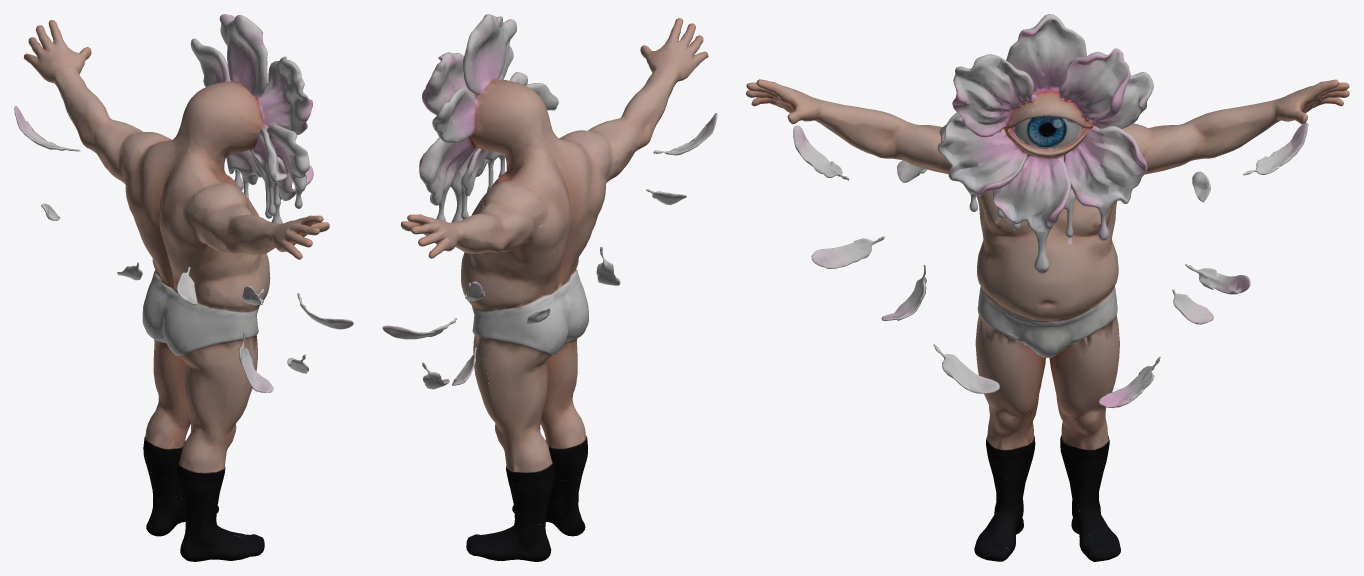
Rendered from flyer.glb.
3 renders of one model, left to right at view 1: azimuth 30°, elevation 25°; view 2: azimuth 150°, elevation 25°; view 3: azimuth 270°, elevation 25°, orthographic. The views are drawn at different scales.
Visible parts, largest first — view 1: tripo_node_4bf3fbf1-d5af-4c68-b5ee-96ed81098029; view 2: tripo_node_4bf3fbf1-d5af-4c68-b5ee-96ed81098029; view 3: tripo_node_4bf3fbf1-d5af-4c68-b5ee-96ed81098029.
Part boxes in pixels (left/top/right/bottom): tripo_node_4bf3fbf1-d5af-4c68-b5ee-96ed81098029: left=14, top=14, right=353, bottom=561; tripo_node_4bf3fbf1-d5af-4c68-b5ee-96ed81098029: left=382, top=14, right=717, bottom=561; tripo_node_4bf3fbf1-d5af-4c68-b5ee-96ed81098029: left=746, top=14, right=1349, bottom=561.
Size of the model in its own units: 0.3664 by 1 by 0.9883.
Materials: 1 (1 with a texture image).
